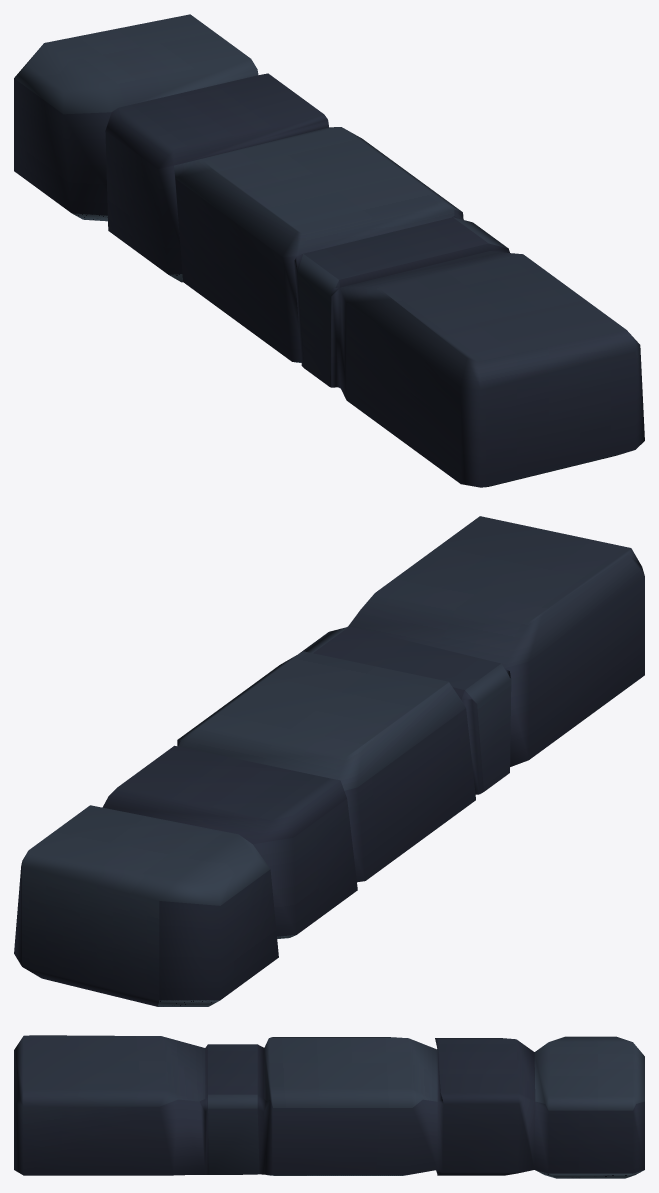
Rendered from Modular_Dungeon_Edge_Top.fbx.
3 renders of one model, top to bottom at view 1: azimuth 30°, elevation 25°; view 2: azimuth 150°, elevation 25°; view 3: azimuth 270°, elevation 25°, orthographic. The views are drawn at different scales.
Visible parts, largest first — view 1: Edge_Top; view 2: Edge_Top; view 3: Edge_Top.
Boxes of the visible parts, x1,y1,x2,y2 form: Edge_Top: (14,14,644,487); Edge_Top: (14,516,644,1006); Edge_Top: (14,1035,644,1178).
Size of the model in its own units: 1.35 by 0.8513 by 5.25.
1 material, 1 textured.
